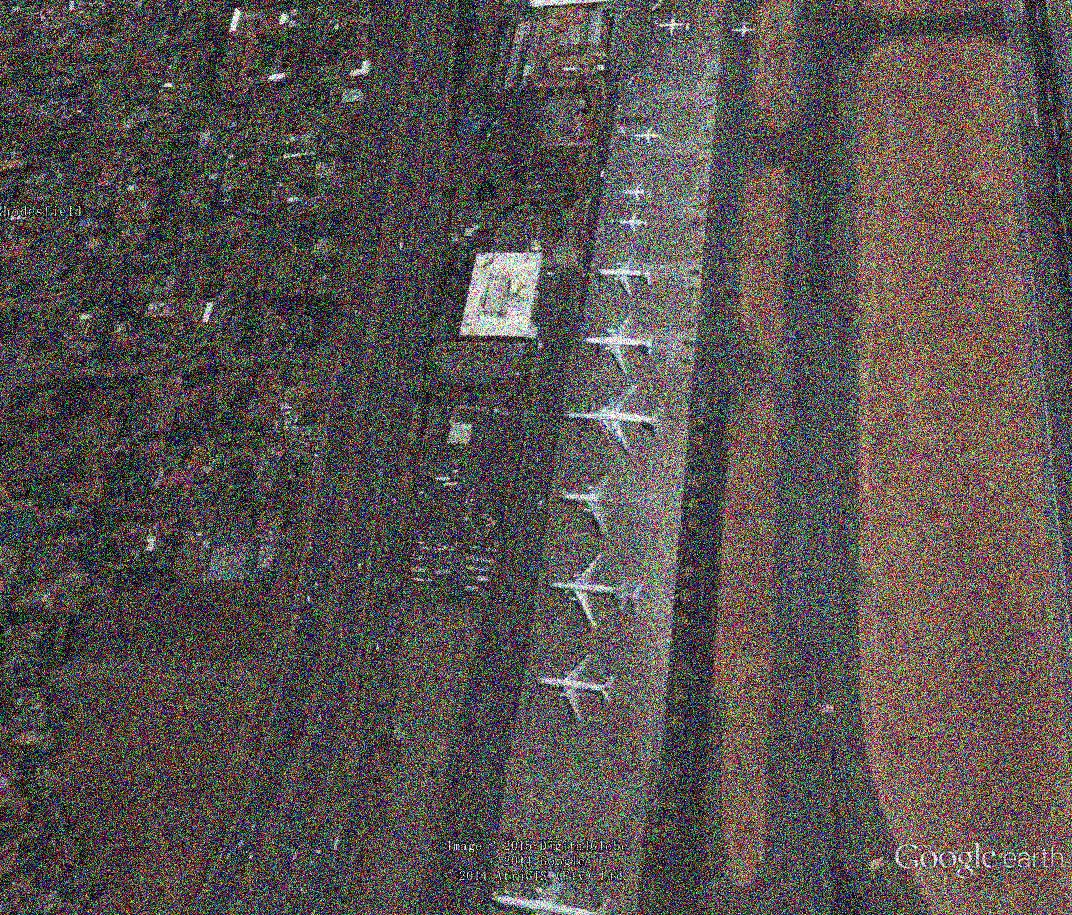aircraft: (543, 547, 648, 632), (553, 380, 667, 458), (555, 465, 633, 546), (532, 650, 618, 723), (486, 869, 613, 914), (572, 310, 656, 377), (594, 249, 655, 299), (656, 13, 693, 40), (614, 211, 653, 235), (618, 181, 655, 204), (629, 125, 667, 147), (730, 20, 760, 41)
